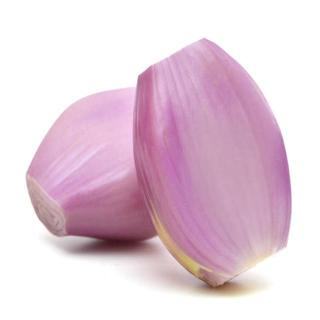Bawang Merah: (131, 36, 296, 290)
